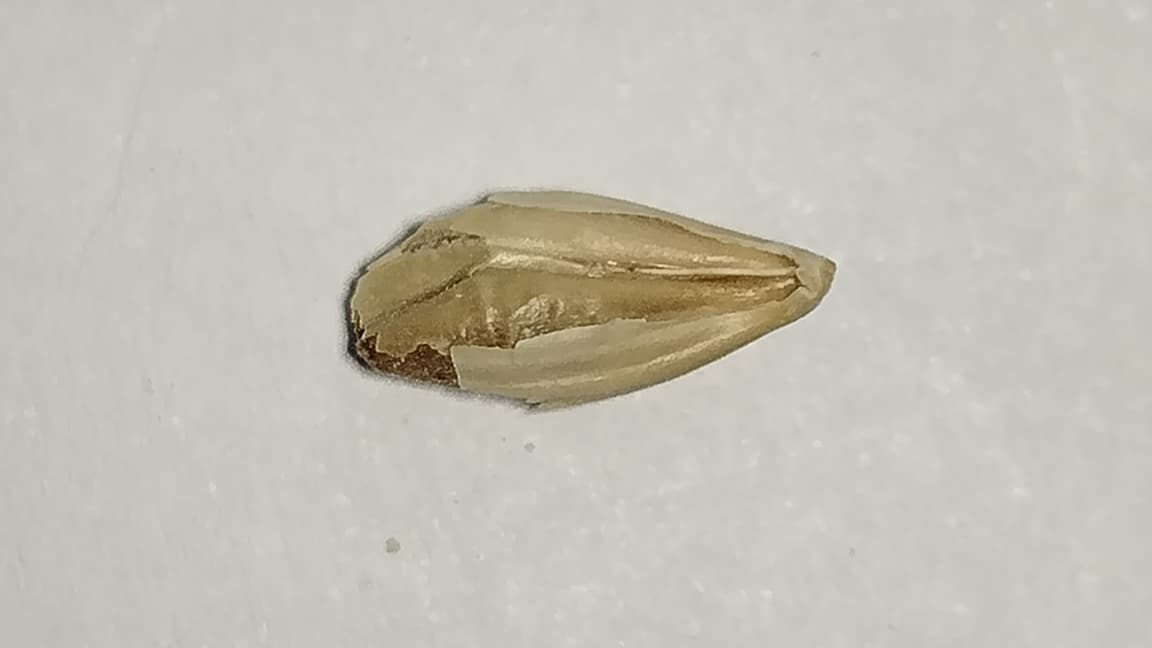damage: (349, 189, 835, 406)
insectdamage: (374, 216, 507, 279)
staindamage: (341, 299, 481, 399)
